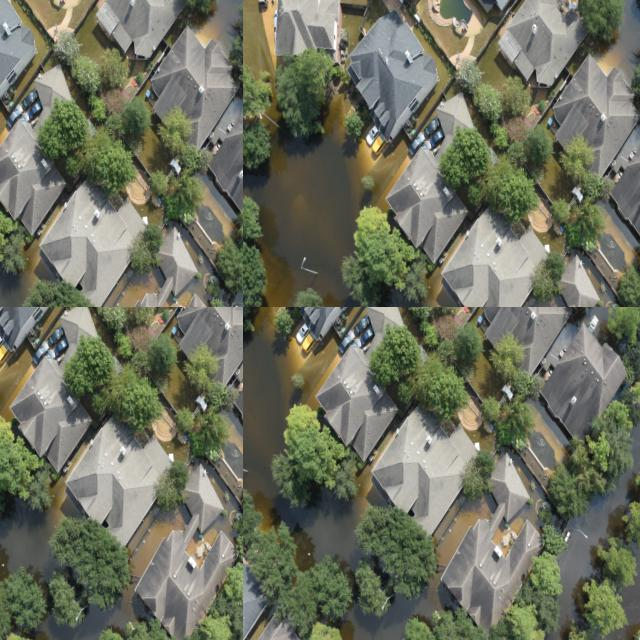fire: (0, 0, 243, 307), (243, 307, 372, 573), (513, 110, 640, 307), (343, 575, 449, 640), (559, 532, 591, 626), (507, 0, 521, 38)
